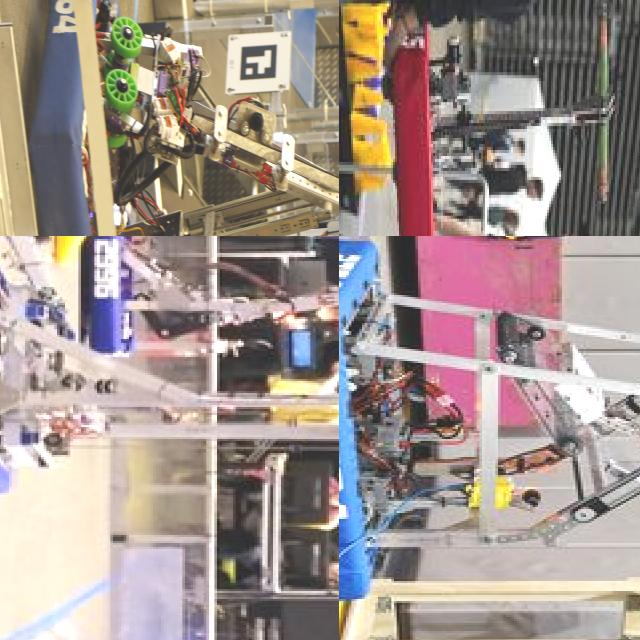FRC-Robots: (339, 236, 640, 632), (0, 244, 339, 500), (20, 0, 339, 236), (389, 4, 622, 236), (69, 236, 339, 348)
